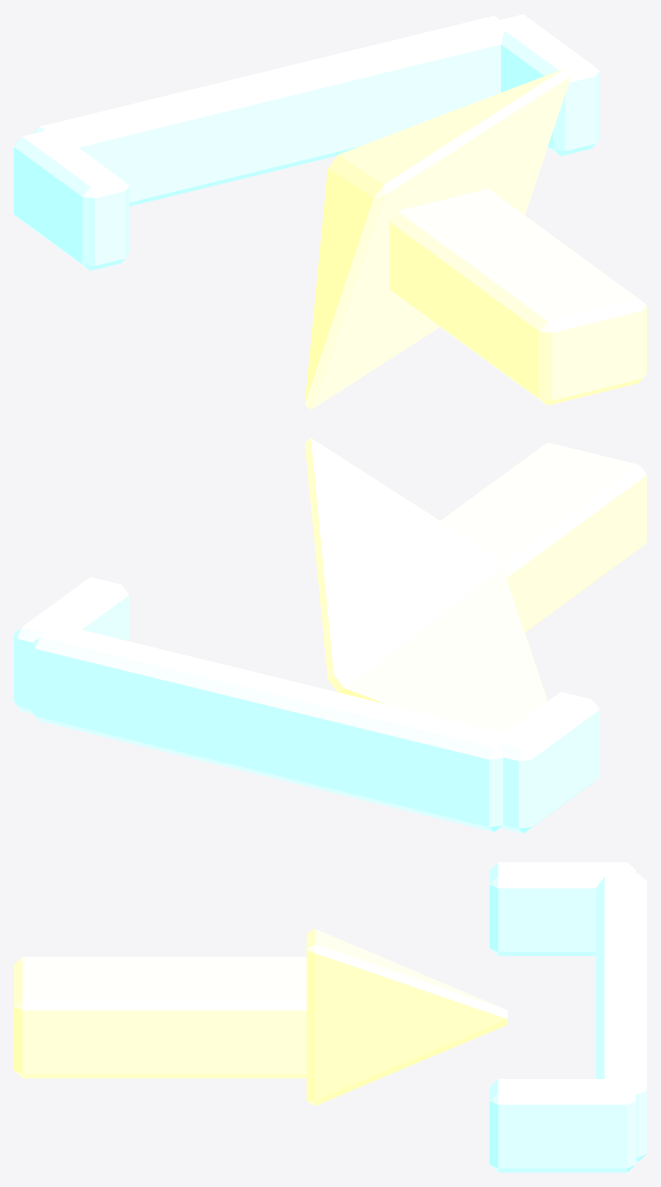
The model's file is download_arrow.glb.
The picture shows the model from 3 angles, top to bottom: view 1: azimuth 30°, elevation 25°; view 2: azimuth 150°, elevation 25°; view 3: azimuth 270°, elevation 25°; orthographic projection. The views are drawn at different scales.
Visible parts, largest first — view 1: download_arrow; view 2: download_arrow; view 3: download_arrow.
Boxes of the visible parts, x1=… form: download_arrow: x1=14, y1=14, x2=646, y2=409; download_arrow: x1=14, y1=438, x2=646, y2=833; download_arrow: x1=14, y1=862, x2=646, y2=1172.
Bounding box in the file's own units: 0.77 × 0.3974 × 0.865.
